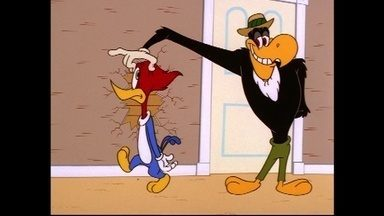picapau: (104, 52, 185, 199)
urubu: (189, 10, 323, 200)
